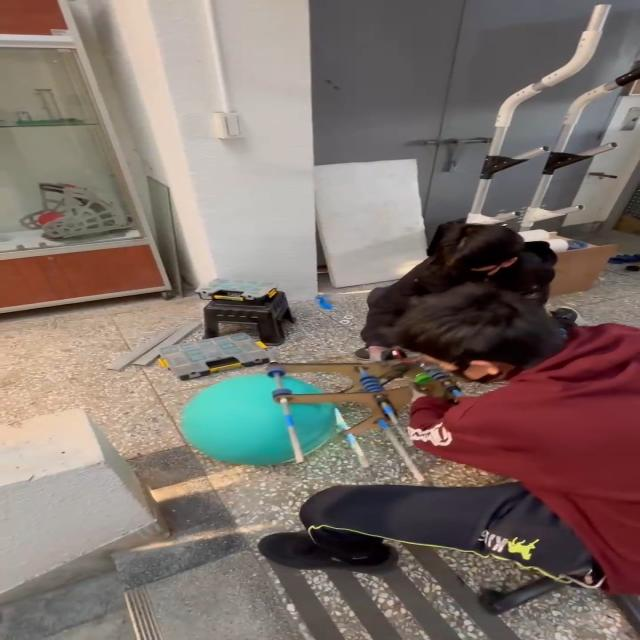ALGAE: (177, 371, 346, 467)
